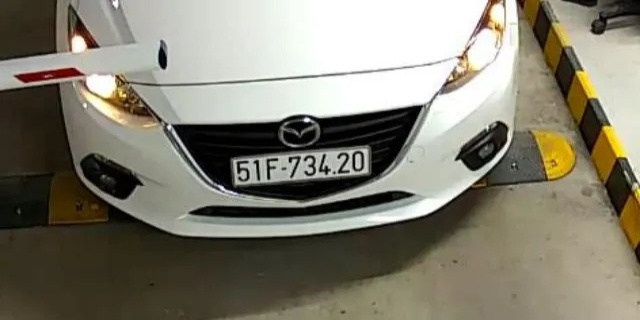bien_so: (232, 149, 369, 183)
